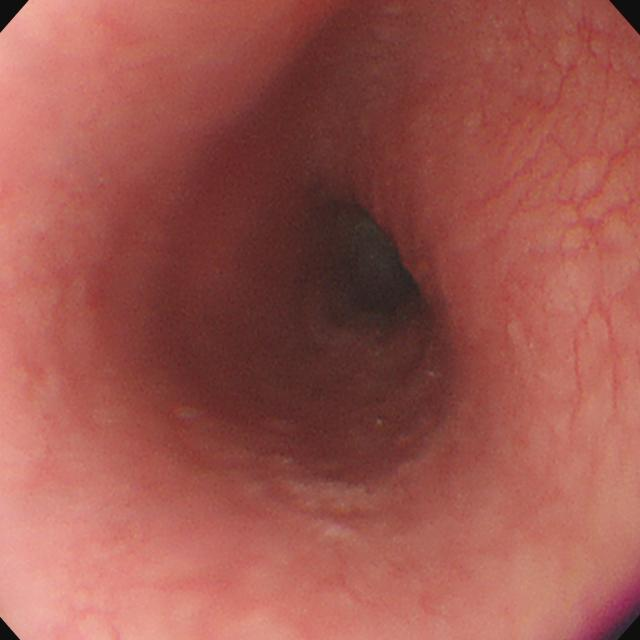E: (312, 197, 427, 339)
